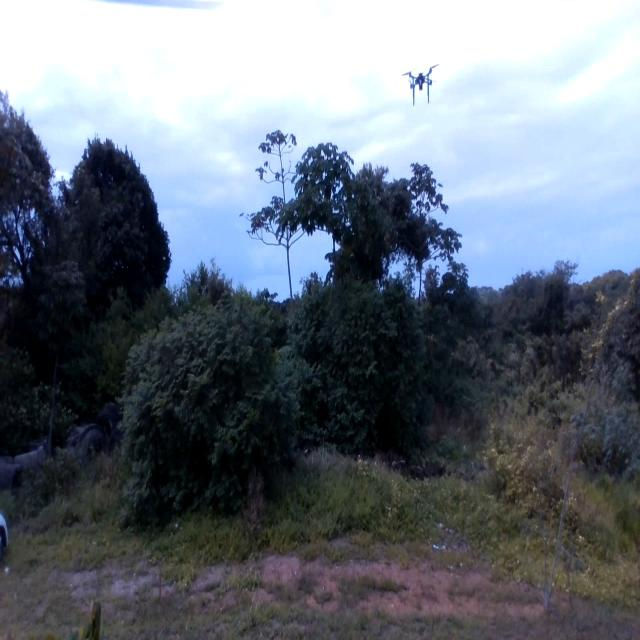-uav-: (396, 55, 446, 114)
